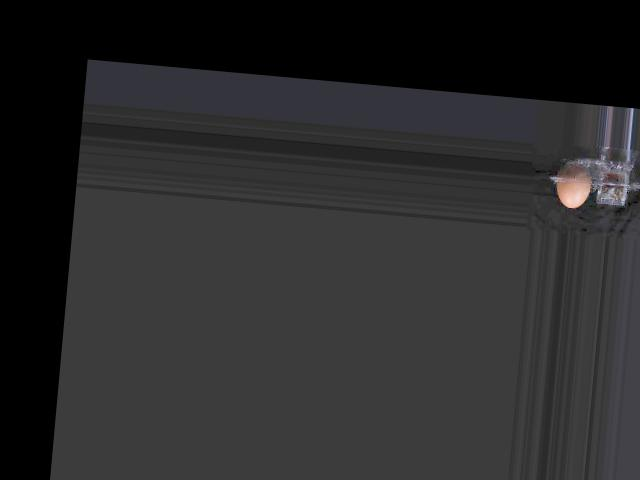egg: (553, 161, 591, 209)
